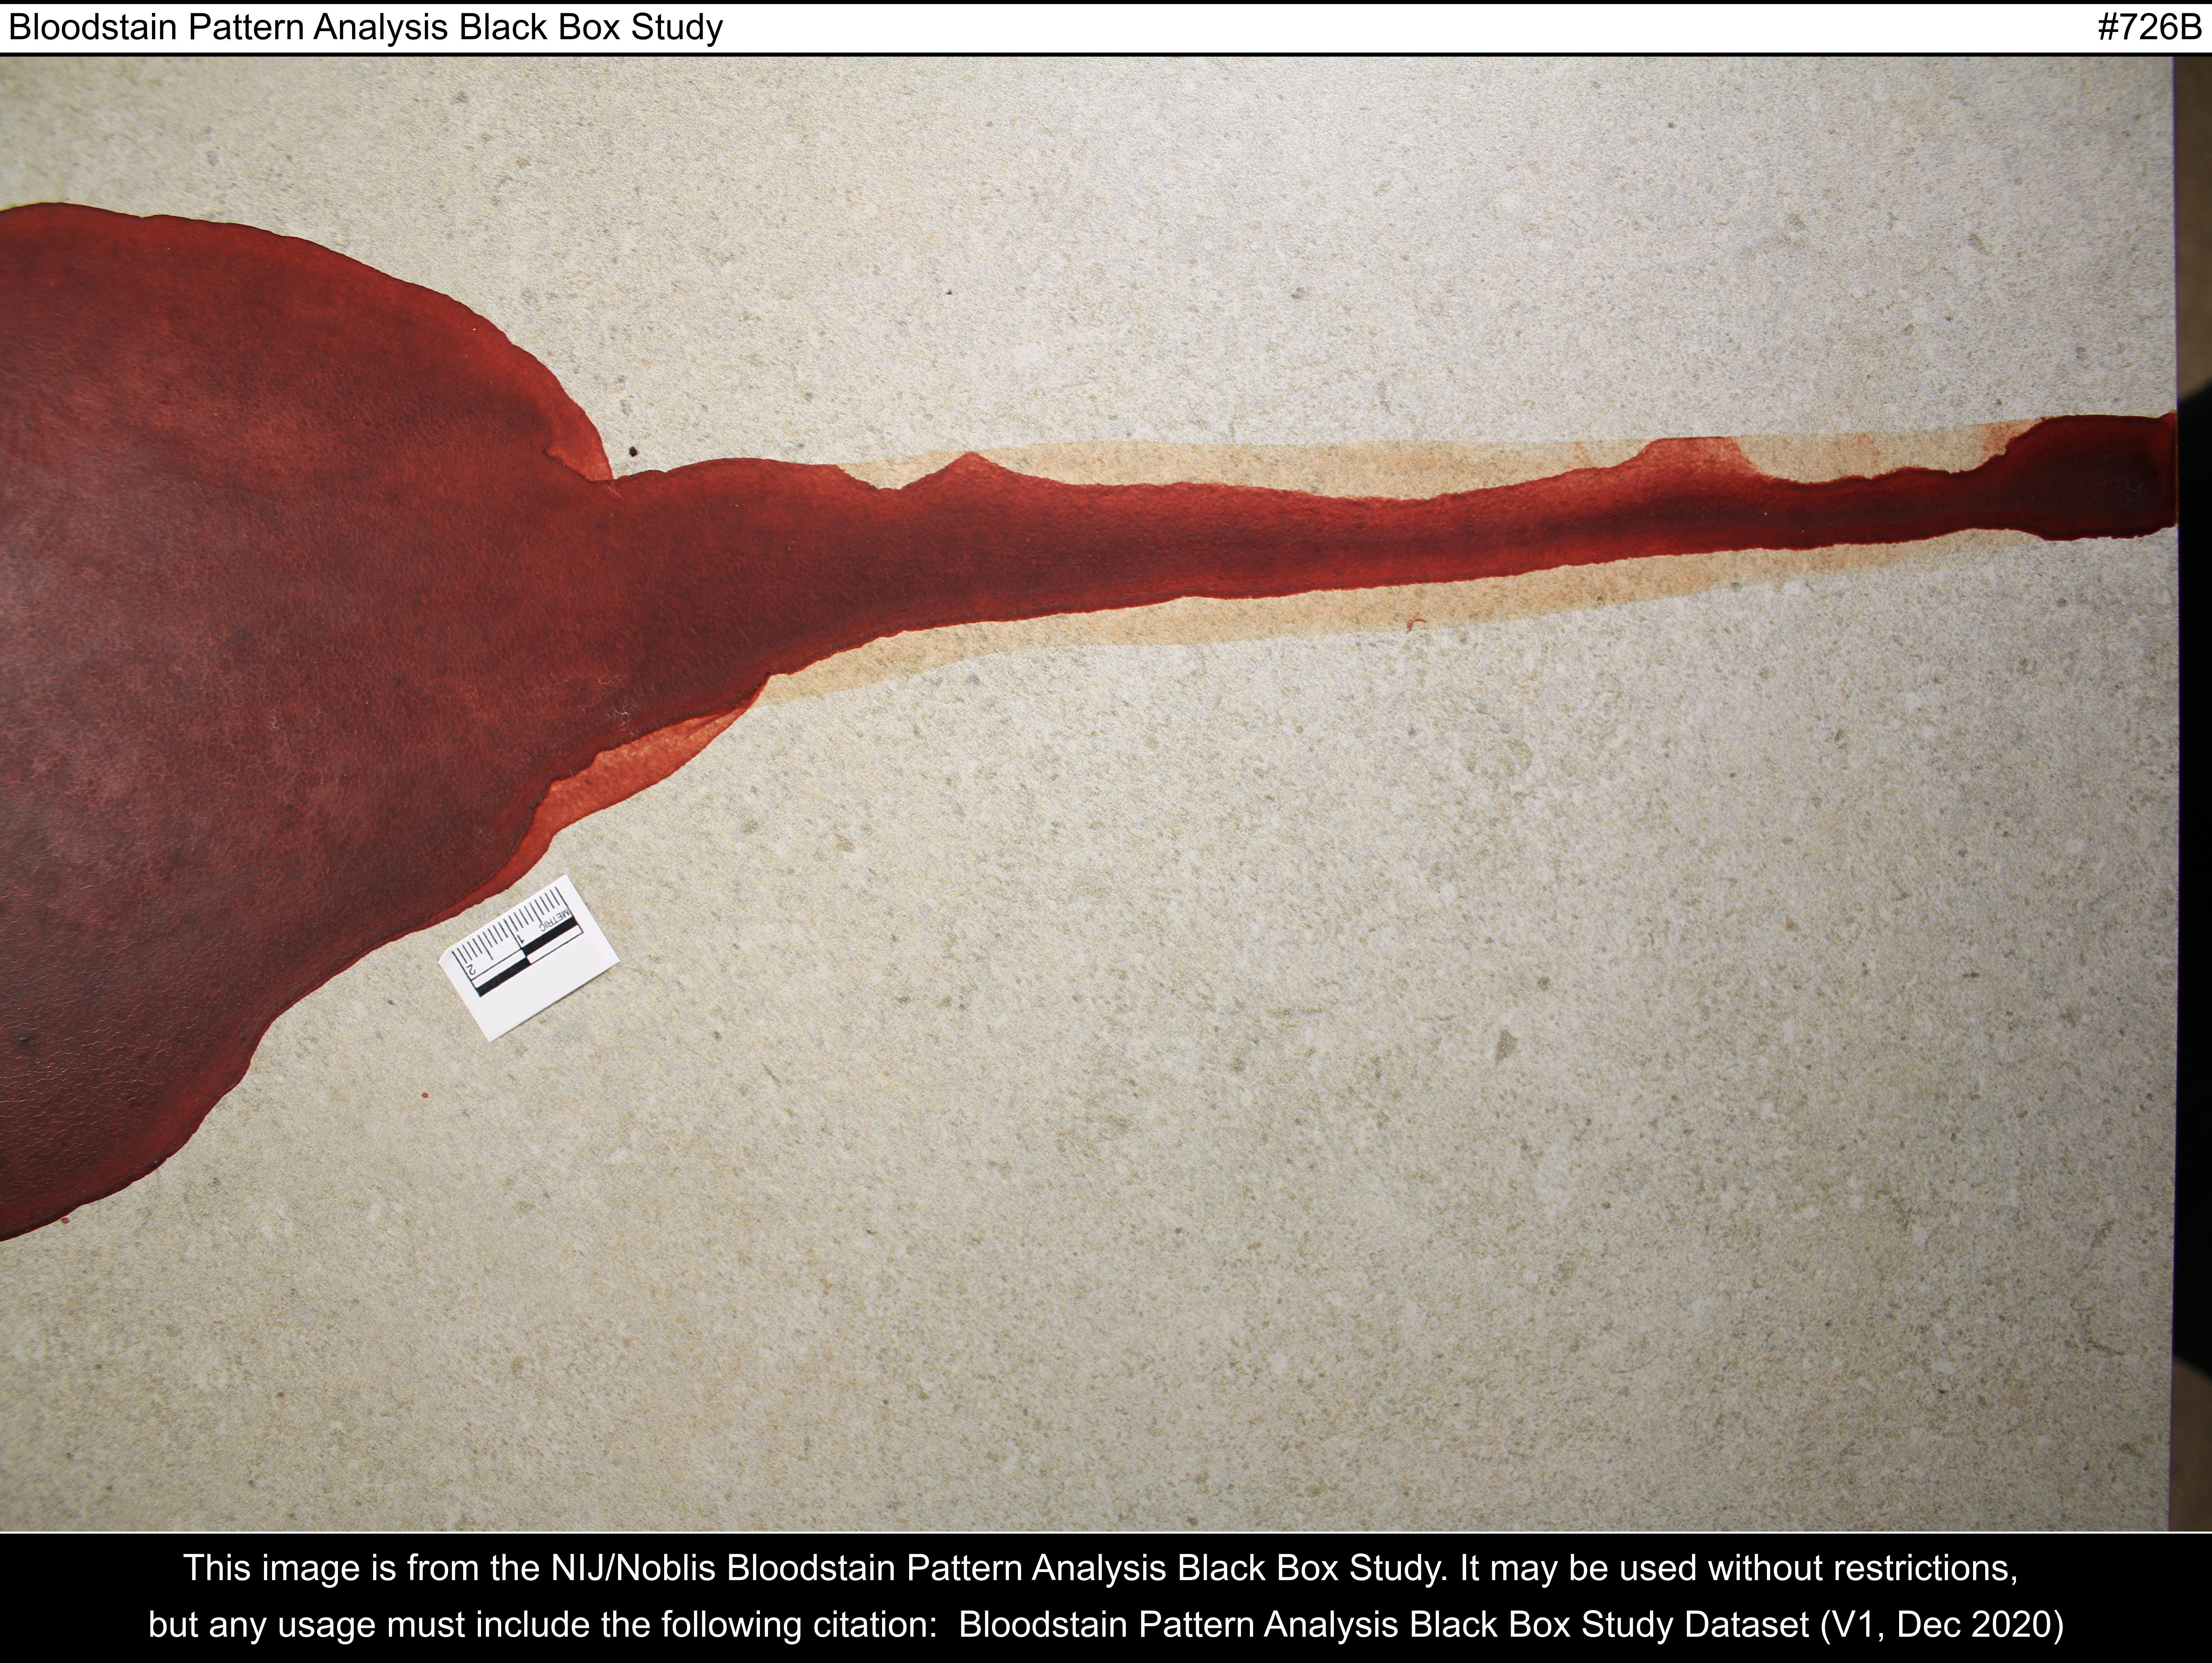Passive: (5, 124, 2146, 1291)
